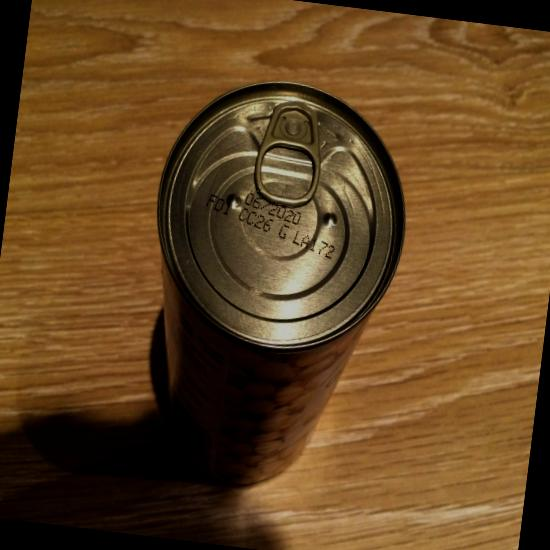Food Can: (157, 82, 405, 485)
Pop tab: (254, 101, 320, 208), (261, 146, 313, 198)
